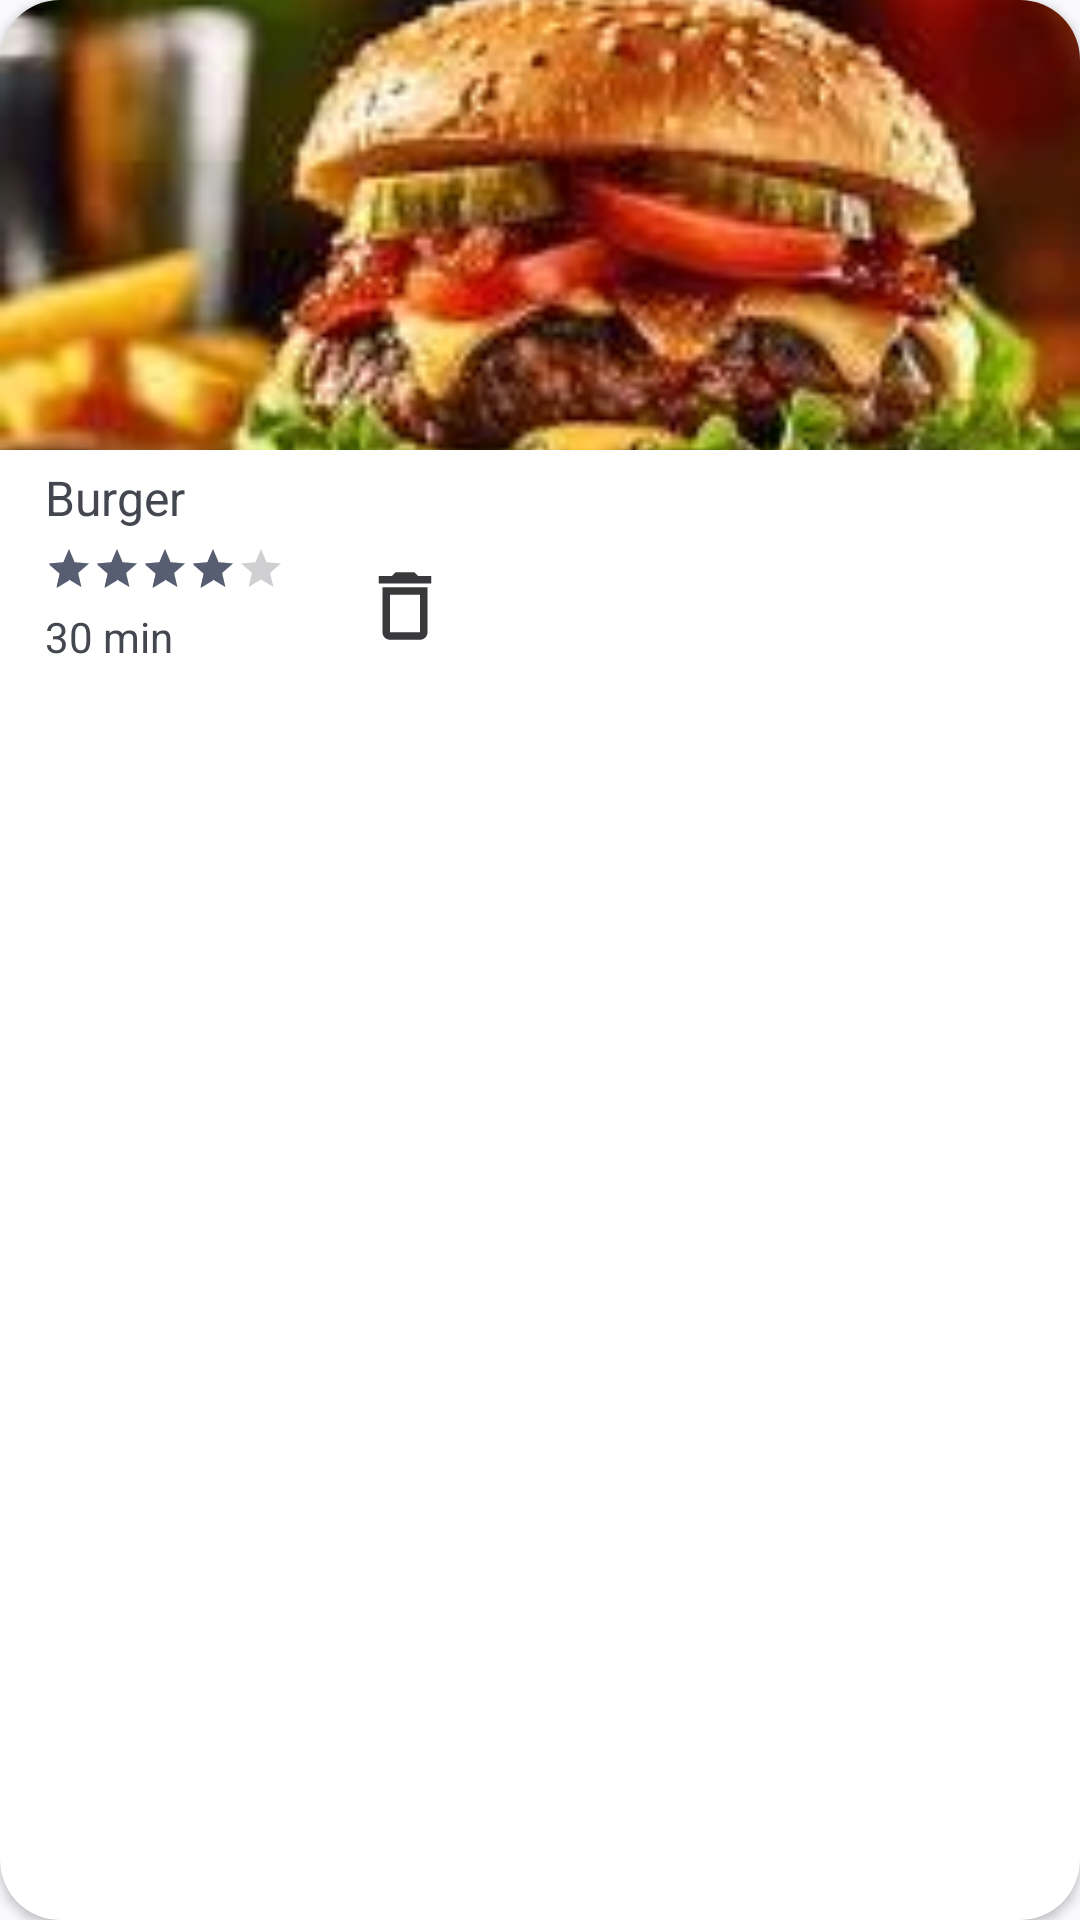

Icons on this 1080px x 1920px Android screen, each with its box as (x1, y1, x2, y2):
delete: (378, 572, 432, 640)
